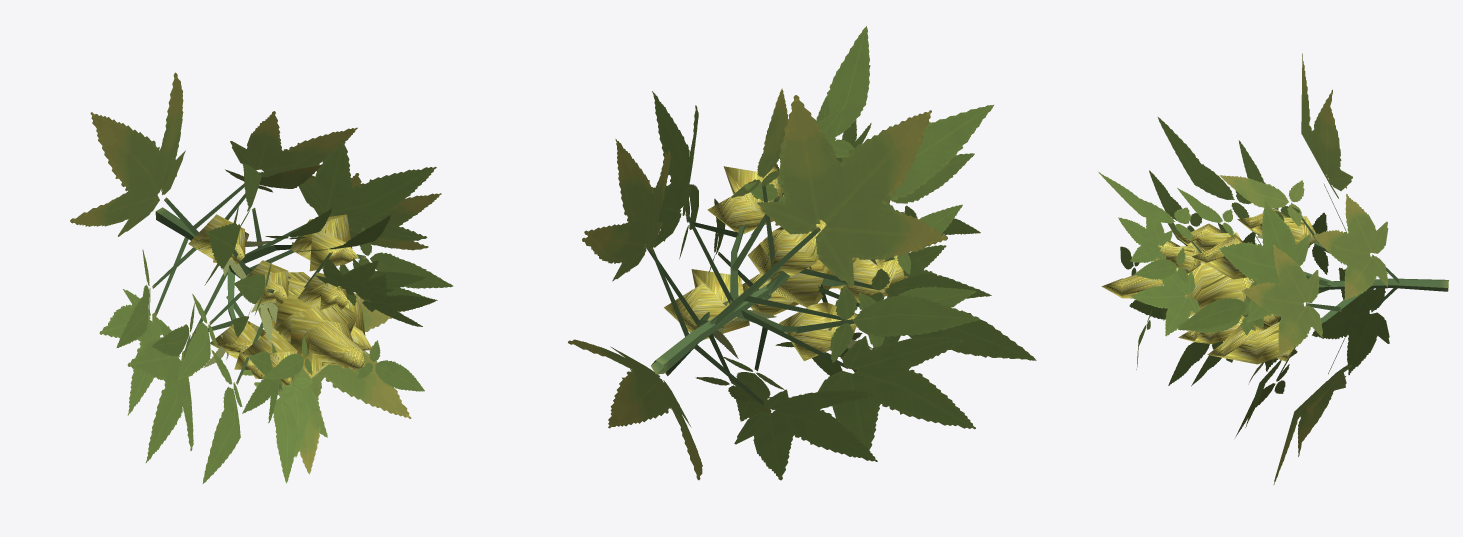
File: p_gold_auto_ripe_c0_cards.obj
3 renders of one model, left to right at view 1: azimuth 30°, elevation 25°; view 2: azimuth 150°, elevation 25°; view 3: azimuth 270°, elevation 25°, orthographic. The views are drawn at different scales.
Bounding box in the file's own units: 1.18 × 1.29 × 0.964.
1 material, 1 textured.
